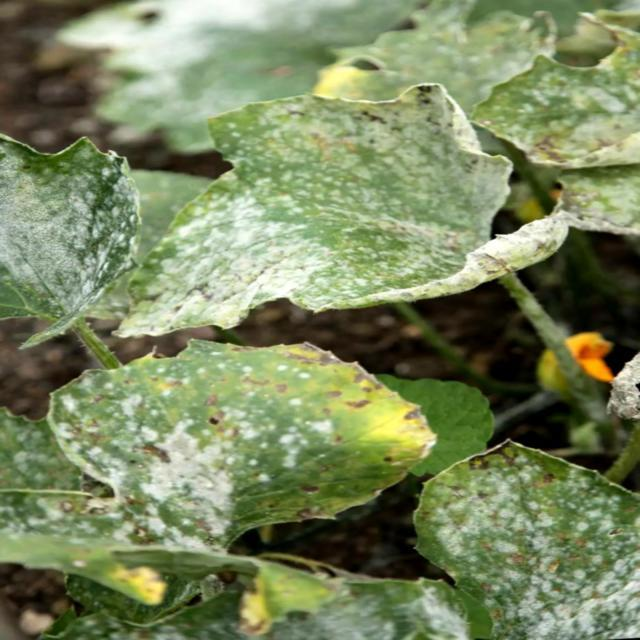Leaf_Mold: (0, 338, 640, 638), (0, 88, 536, 334), (290, 0, 640, 254)
